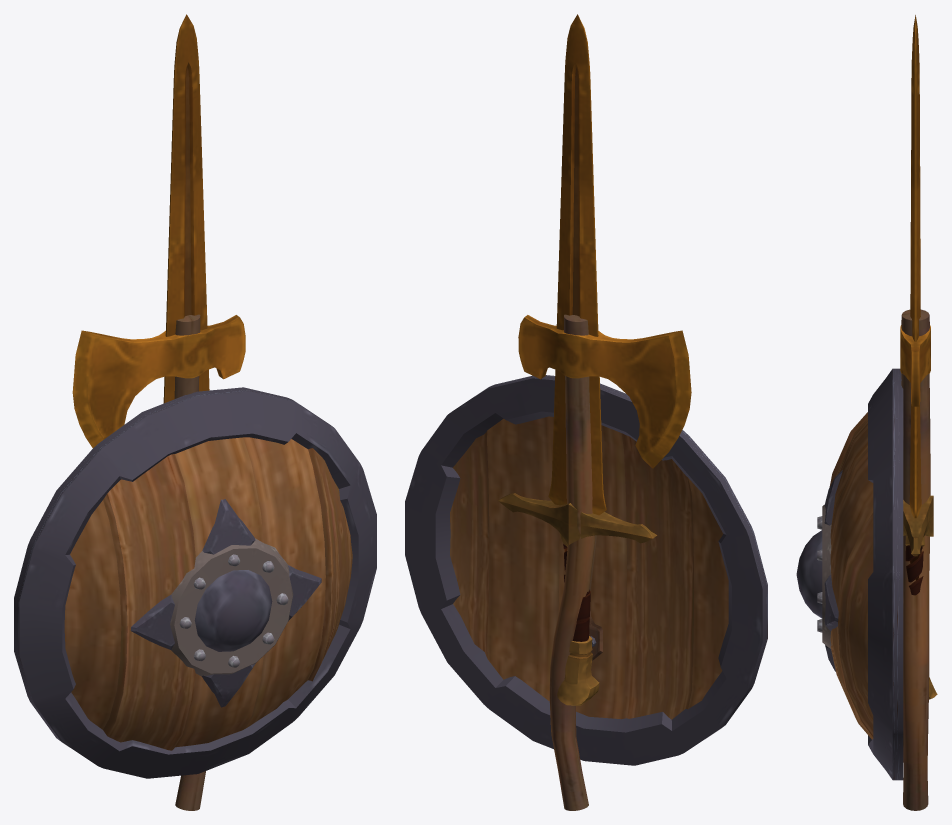
Rendered from aether_wpn.glb.
The picture shows the model from 3 angles, left to right: view 1: azimuth 30°, elevation 25°; view 2: azimuth 150°, elevation 25°; view 3: azimuth 270°, elevation 25°; orthographic projection.
Visible parts, largest first — view 1: Shield_Wooden, Axe_Bronze, Sword_Bronze; view 2: Shield_Wooden, Axe_Bronze, Sword_Bronze; view 3: Shield_Wooden, Axe_Bronze, Sword_Bronze.
Part boxes in pixels (x1,y1,x2,y2): Shield_Wooden: (14,387,376,778); Axe_Bronze: (72,314,245,810); Sword_Bronze: (163,14,209,403); Shield_Wooden: (405,375,767,765); Axe_Bronze: (518,314,691,810); Sword_Bronze: (498,14,657,705); Shield_Wooden: (796,368,903,780); Axe_Bronze: (900,309,930,810); Sword_Bronze: (903,15,937,699).
Bounding box in the file's own units: 0.6146 × 1.3 × 0.2107.
Materials: 3 (3 with a texture image).
